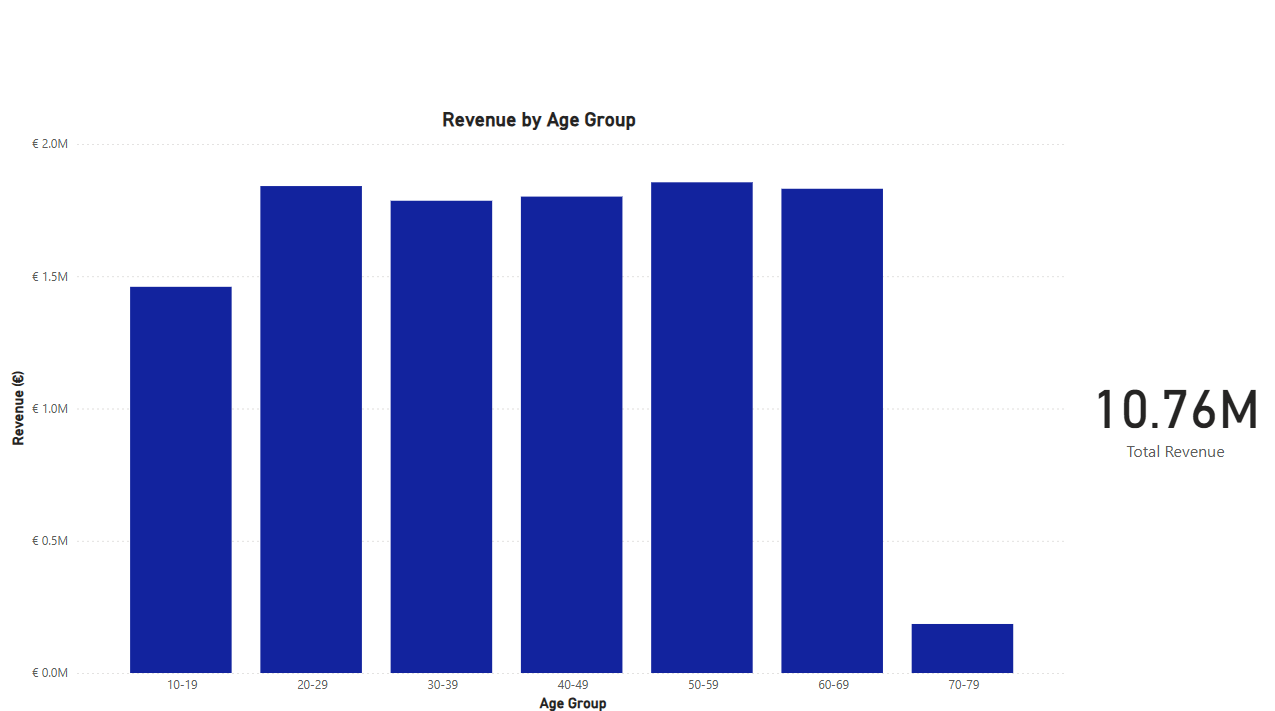

The page's visual inventory and layout, read from the dashboard file:
{"tool":"powerbi","page":{"name":"Revenue by Age Group","canvas":[1280,720],"ordinal":5},"visuals":[{"type":"clusteredColumnChart","title":"Revenue by Age Group","fields":{"Y":["order_items.Total Revenue"],"Category":["users.The Age Group"]},"box":[6.8,111.9,1068,607.9],"z":0},{"type":"card","fields":{"Values":["order_items.Total Revenue"]},"box":[1074.8,304.4,205.2,223.7],"z":1000}]}

Visuals, with their boxes in screenshot pixels (x1, y1, x2, y2), scaled from the page's 1280x720 canvas onto the 1275x711 screenshot:
"Revenue by Age Group" clusteredColumnChart: bbox=(7, 111, 1071, 710)
card - order_items.Total Revenue: bbox=(1071, 301, 1274, 521)
